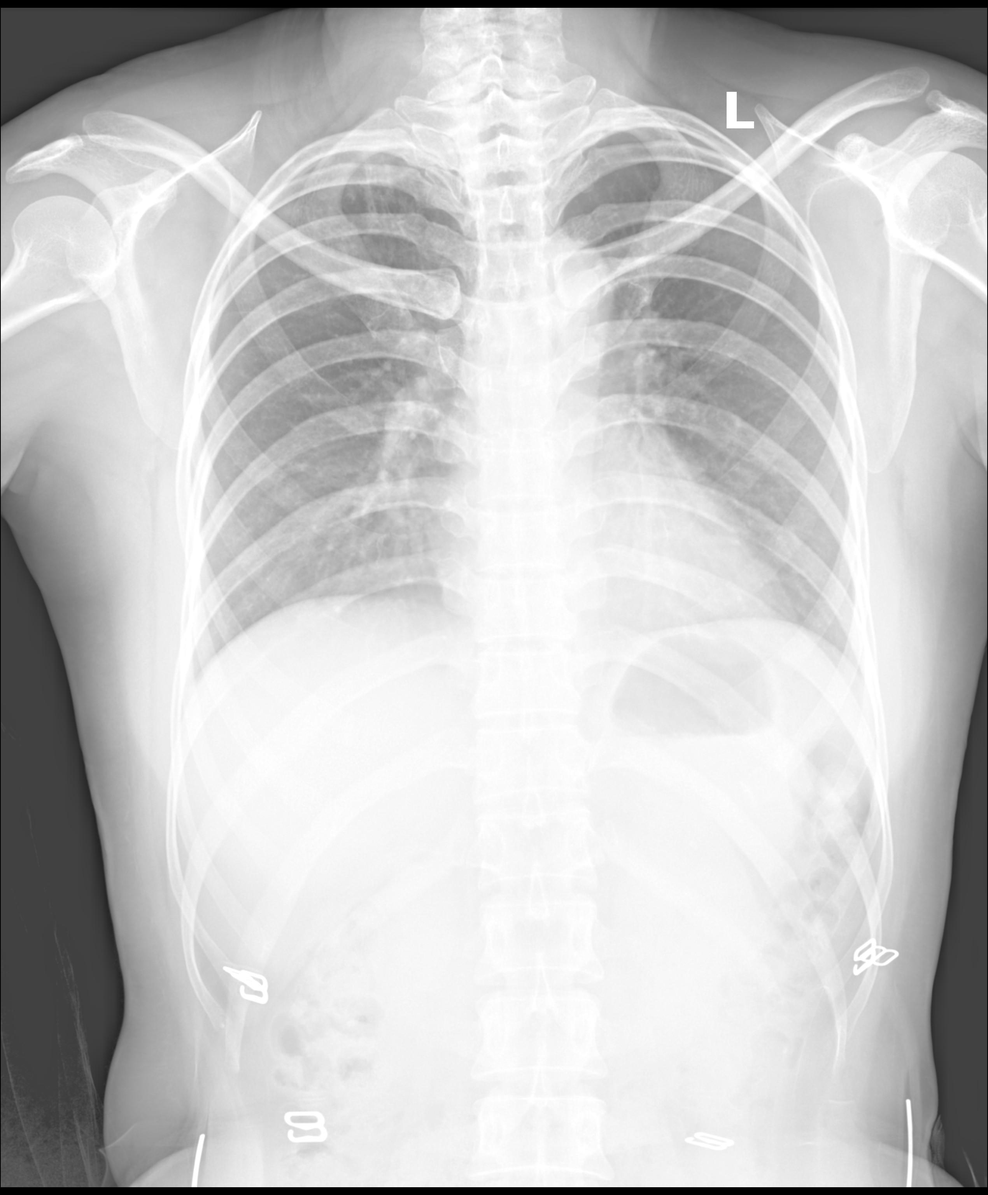Cardiomegaly: (430, 532, 802, 637)
Pulmonary fibrosis: (343, 137, 438, 275)
